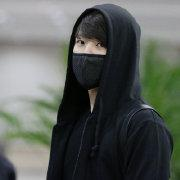WRONG: (72, 32, 114, 89)
